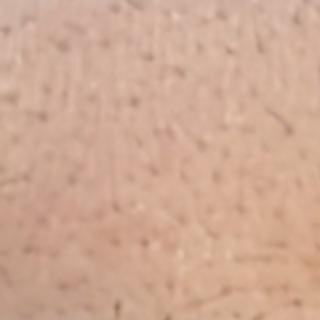Pores: (175, 166, 195, 187), (165, 118, 182, 141), (3, 88, 23, 107), (91, 205, 110, 225), (129, 132, 147, 153), (291, 7, 308, 29), (169, 238, 187, 258), (109, 198, 127, 218), (21, 11, 41, 29), (149, 123, 167, 143), (171, 62, 193, 78), (140, 46, 158, 65), (19, 240, 37, 259), (9, 129, 27, 148), (260, 281, 278, 300), (70, 20, 90, 37), (255, 251, 275, 268), (254, 36, 270, 57), (247, 82, 265, 100), (234, 197, 252, 215), (126, 92, 143, 111), (37, 80, 56, 97), (79, 300, 96, 319), (52, 37, 72, 53), (161, 275, 177, 295), (236, 98, 251, 119), (290, 295, 307, 313), (109, 300, 125, 319), (277, 280, 296, 296), (230, 252, 250, 267), (209, 169, 226, 186), (265, 176, 281, 194), (62, 228, 78, 246), (65, 172, 80, 191), (291, 176, 306, 195), (128, 198, 148, 212), (57, 85, 70, 106), (218, 145, 234, 162), (194, 136, 211, 152), (36, 108, 52, 125), (139, 283, 156, 299), (47, 247, 63, 264), (180, 281, 196, 298), (215, 5, 233, 20), (2, 21, 17, 39), (124, 168, 139, 186), (235, 281, 253, 296), (147, 163, 163, 179), (274, 205, 290, 221), (164, 6, 180, 22), (229, 63, 244, 80), (282, 122, 297, 139), (98, 35, 113, 52), (139, 234, 154, 251), (273, 235, 290, 250), (83, 90, 100, 105), (239, 123, 256, 138), (127, 0, 148, 12), (205, 202, 221, 217), (219, 40, 235, 55), (201, 256, 217, 271), (209, 83, 226, 96), (254, 185, 267, 202), (253, 307, 270, 320), (204, 228, 221, 241), (173, 211, 188, 225), (79, 272, 94, 286), (193, 37, 208, 51), (34, 211, 49, 225), (216, 121, 232, 134), (54, 277, 68, 291), (110, 235, 123, 250), (229, 307, 244, 320), (297, 148, 313, 160), (219, 285, 232, 299), (81, 247, 97, 258), (55, 304, 67, 318), (109, 3, 122, 15), (157, 312, 175, 320), (313, 60, 320, 79), (312, 240, 320, 255), (181, 316, 195, 320), (318, 279, 320, 295), (319, 170, 320, 191)
